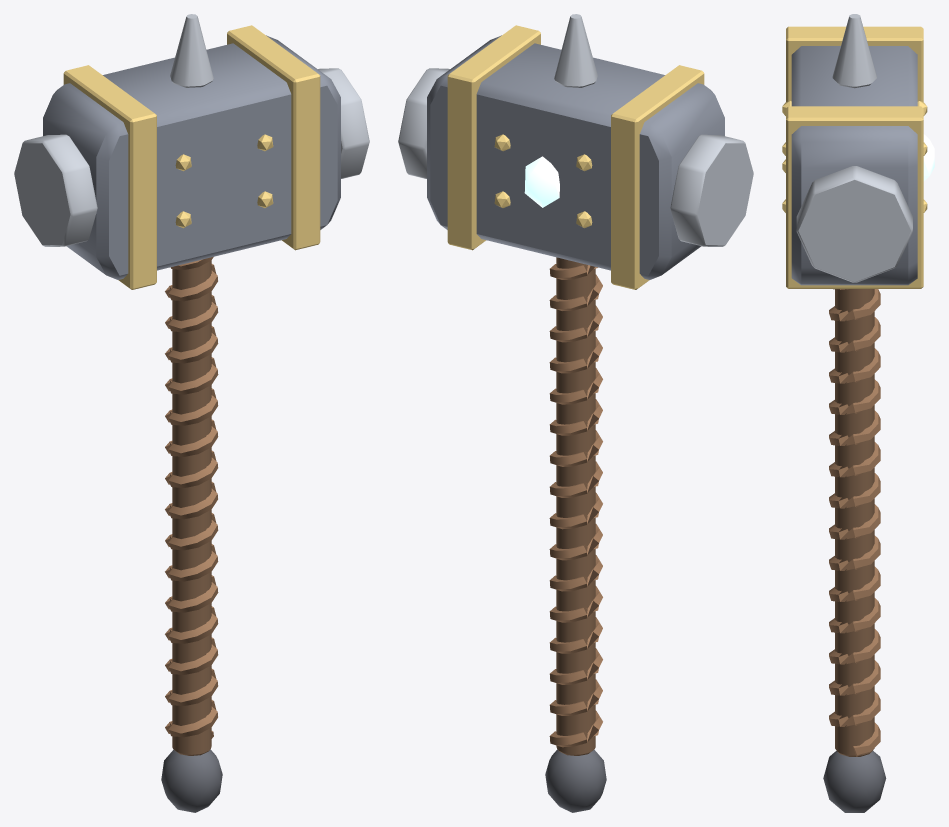
Rendered from gen_hammer.fbx.
3 views of the same model, side by side, from view 1: azimuth 30°, elevation 25°; view 2: azimuth 150°, elevation 25°; view 3: azimuth 270°, elevation 25° (orthographic).
Visible parts, largest first — view 1: hammer; view 2: hammer; view 3: hammer.
Boxes of the visible parts, left/top/right/bottom form: hammer: left=14, top=14, right=369, bottom=812; hammer: left=398, top=14, right=753, bottom=812; hammer: left=782, top=14, right=934, bottom=812.
Size of the model in its own units: 0.44 by 1.12 by 0.1939.
